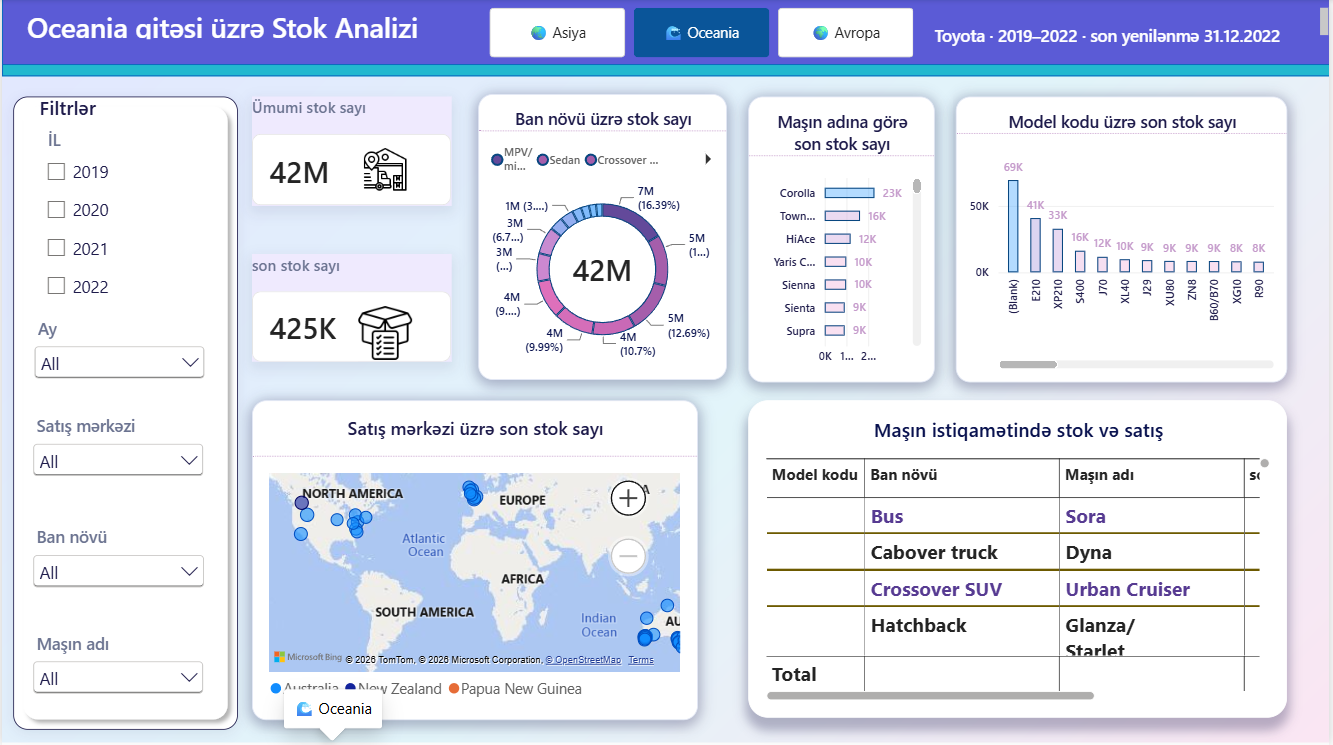

What the dashboard file says about the page in this screenshot:
{"tool":"powerbi","page":{"name":"🌊 Oceania","canvas":[1280,720],"ordinal":1},"visuals":[{"type":"shape","box":[0,0,1898,64.9],"z":0,"group":"g1"},{"type":"shape","box":[11.4,94.3,217.1,611.4],"z":0},{"type":"group","id":"g1","title":"Group 1","box":[0,0,1897.2,73.6],"z":1000},{"type":"shape","box":[0,62.2,1898,11.9],"z":1000,"group":"g1"},{"type":"textbox","box":[24.3,8.6,1255.7,30],"z":2000},{"type":"textbox","box":[1260,35.7,20,27.1],"z":3000},{"type":"textbox","box":[900,24,360,24],"z":4000},{"type":"textbox","box":[35.7,91.4,128.6,32.9],"z":5000},{"type":"slicer","fields":{"Values":["Calendar.il"]},"box":[35.7,124.3,110,174],"z":6000},{"type":"slicer","fields":{"Values":["Calendar.ay"]},"box":[26.7,306.7,174,60],"z":7000},{"type":"slicer","fields":{"Values":["Toyota_sku.Satış mərkəzi"]},"box":[25,400,174,60],"z":8000},{"type":"slicer","fields":{"Values":["Toyota_sku.Ban növü"]},"box":[25,508.3,174.3,67.1],"z":9000},{"type":"cardVisual","title":"Ümumi stok sayı","fields":{"Data":["Dax cədvəli.Total Stok sayı"]},"box":[241.4,94.3,192.9,105.7],"z":14000},{"type":"cardVisual","title":"son stok sayı","fields":{"Data":["Dax cədvəli.son stok sayı"]},"box":[241.4,245.7,192.9,104.3],"z":15000},{"type":"map","title":"Satış mərkəzi üzrə son stok sayı","fields":{"Category":["Toyota_city.Şəhər","Toyota_city.Qitə"],"Series":["Toyota_city.Ölkə"],"Size":["Dax cədvəli.son stok sayı"]},"box":[241.4,387.1,430,308.6],"z":16000},{"type":"clusteredColumnChart","title":"Model kodu üzrə son stok sayı","fields":{"Category":["Toyota_sku.Model kodu"],"Y":["Dax cədvəli.son stok sayı"]},"box":[920,94.3,320,275.7],"z":17000},{"type":"clusteredBarChart","title":"Maşın adına görə son stok sayı","fields":{"Category":["Toyota_sku.Maşın adı"],"Y":["Dax cədvəli.son stok sayı"]},"box":[720,94.3,180,275.7],"z":18000},{"type":"donutChart","title":"Ban növü üzrə stok sayı","fields":{"Category":["Toyota_sku.Ban növü"],"Y":["Dax cədvəli.Total Stok sayı"]},"box":[460,91.4,240,275.7],"z":19000},{"type":"tableEx","title":"Maşın istiqamətində stok və satış","fields":{"Values":["Toyota_sku.Model kodu","Toyota_sku.Ban növü","Toyota_sku.Maşın adı","Dax cədvəli.son stok sayı","Dax cədvəli.Satış cəmi"]},"box":[720,386.7,520,306.7],"z":20000},{"type":"slicer","fields":{"Values":["Toyota_sku.Maşın adı"]},"box":[25,610,174,60],"z":22000},{"type":"image","box":[344,296,52,54],"z":22001},{"type":"image","box":[344,142,52,44],"z":22002},{"type":"pageNavigator","box":[470,8.6,410,48.6],"z":30000}]}

Visuals, with their boxes in screenshot pixels (x1, y1, x2, y2), scaled from the page's 1280x720 canvas onto the 1333x745 screenshot:
shape: 0/0/1332/67
shape: 12/98/238/730
"Group 1" group: 0/0/1332/76
shape: 0/64/1332/77
textbox: 25/9/1332/40
textbox: 1312/37/1332/65
textbox: 937/25/1312/50
textbox: 37/95/171/129
slicer - Calendar.il: 37/129/152/309
slicer - Calendar.ay: 28/317/209/379
slicer - Toyota_sku.Satış mərkəzi: 26/414/207/476
slicer - Toyota_sku.Ban növü: 26/526/208/595
"Ümumi stok sayı" cardVisual: 251/98/452/207
"son stok sayı" cardVisual: 251/254/452/362
"Satış mərkəzi üzrə son stok sayı" map: 251/401/699/720
"Model kodu üzrə son stok sayı" clusteredColumnChart: 958/98/1291/383
"Maşın adına görə son stok sayı" clusteredBarChart: 750/98/937/383
"Ban növü üzrə stok sayı" donutChart: 479/95/729/380
"Maşın istiqamətində stok və satış" tableEx: 750/400/1291/717
slicer - Toyota_sku.Maşın adı: 26/631/207/693
image: 358/306/412/362
image: 358/147/412/192
pageNavigator: 489/9/916/59
